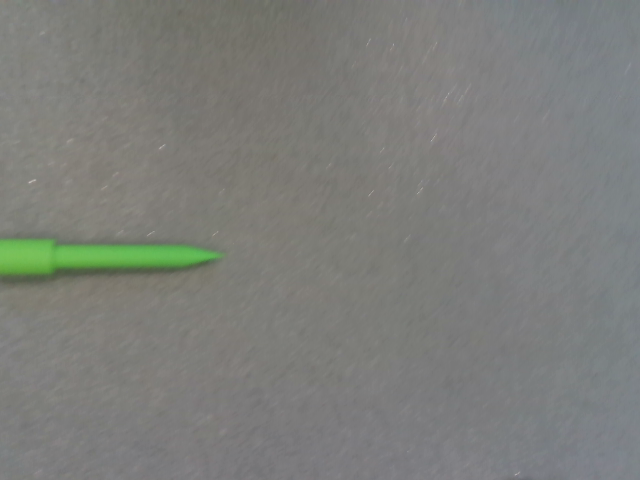Probe: (1, 232, 231, 284)
